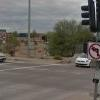traffic lights: (81, 0, 96, 34)
